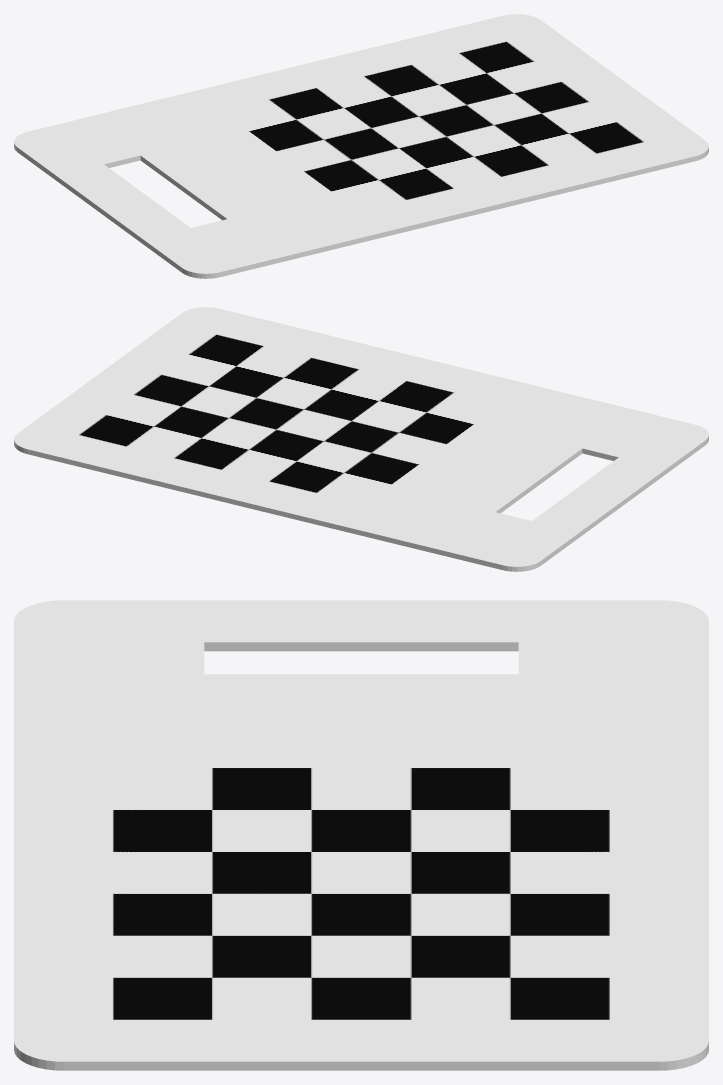
Rendered from chessboard.dae.
3 views of the same model, one above another, from view 1: azimuth 30°, elevation 25°; view 2: azimuth 150°, elevation 25°; view 3: azimuth 270°, elevation 25° (orthographic). The views are drawn at different scales.
Visible parts, largest first — view 1: CalibrationBoard; view 2: CalibrationBoard; view 3: CalibrationBoard.
Boxes of the visible parts, x1,y1,x2,y2 form: CalibrationBoard: (14, 14, 708, 278); CalibrationBoard: (14, 307, 708, 571); CalibrationBoard: (14, 600, 708, 1070).
Size of the model in its own units: 0.33 by 0.21 by 0.003.
Materials: 1 (1 with a texture image).
